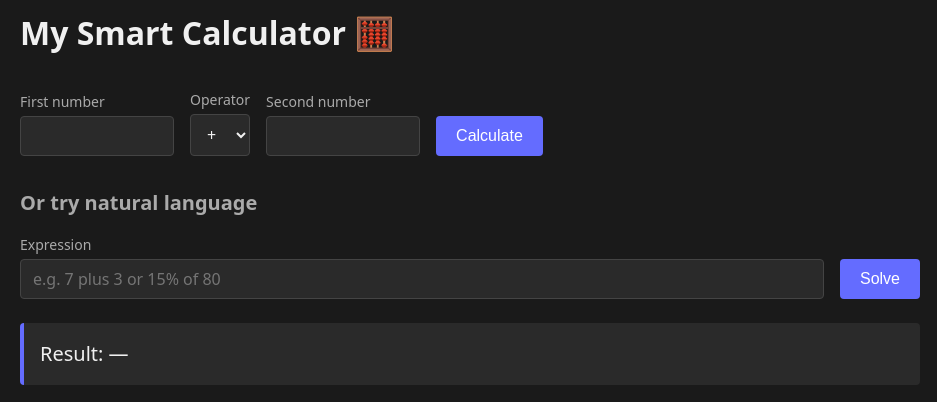
App › [CALC-019] does not process duplicate requests on rapid double-click
This screenshot has width=937, height=402.
Type "5" into the number field labelled "First number".
click(97, 136); type("5")  # box 20,116 -> 174,156
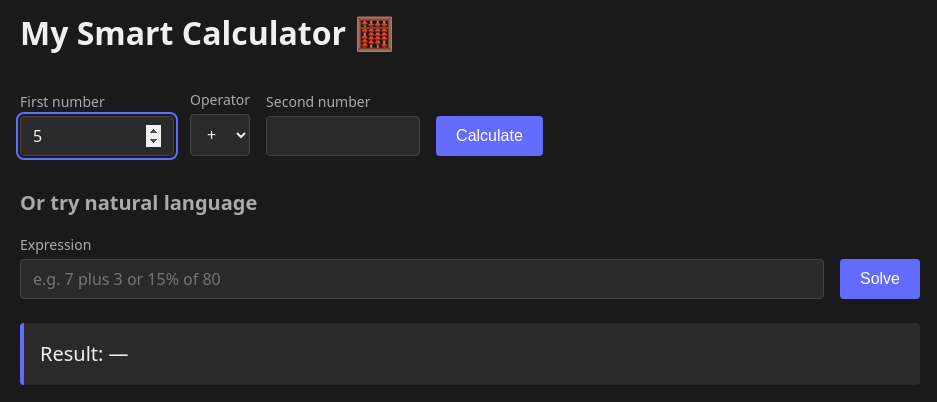
Type "3" into the number field labelled "Second number".
click(343, 136); type("3")  # box 266,116 -> 420,156
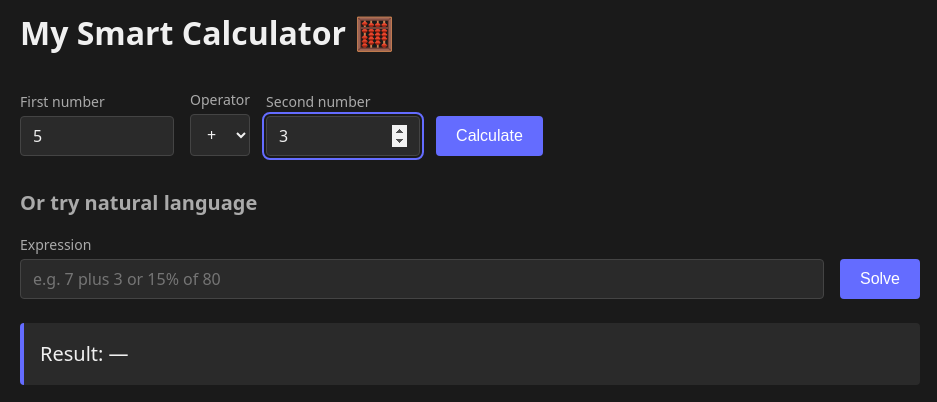
Click the button "Calculate".
click(489, 136)  # box 436,116 -> 543,156
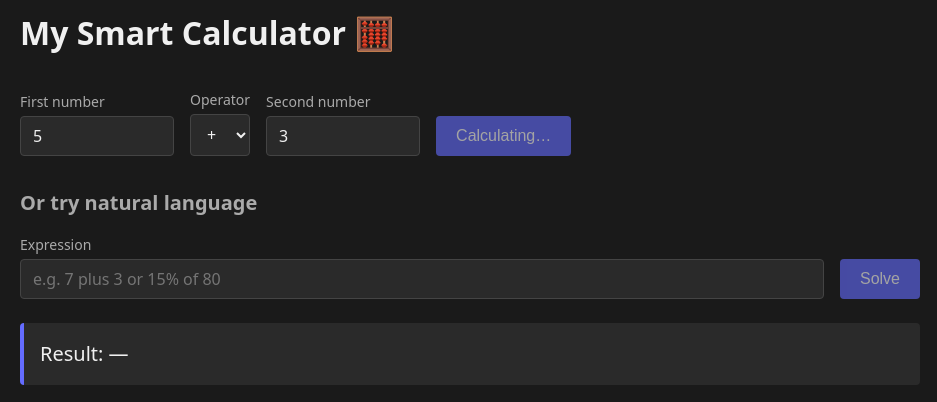
Click the button named "calculate".
click(504, 136)  # box 436,116 -> 571,156
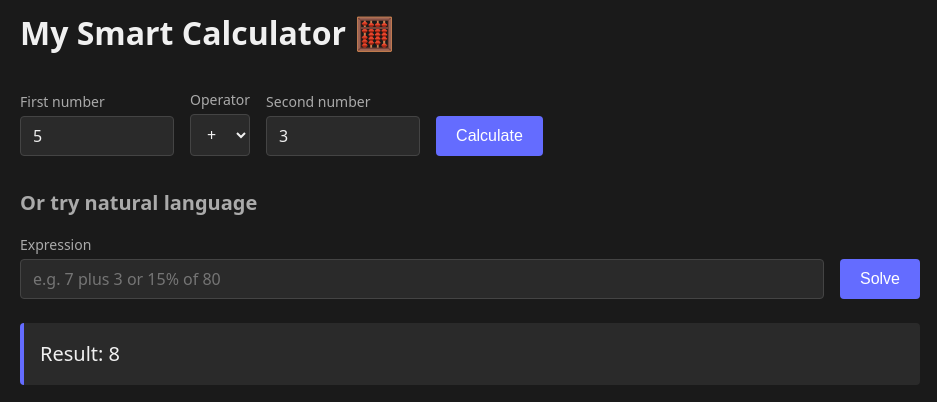
Expected: the text "Result: 8" is shown, 20,323 -> 920,385
